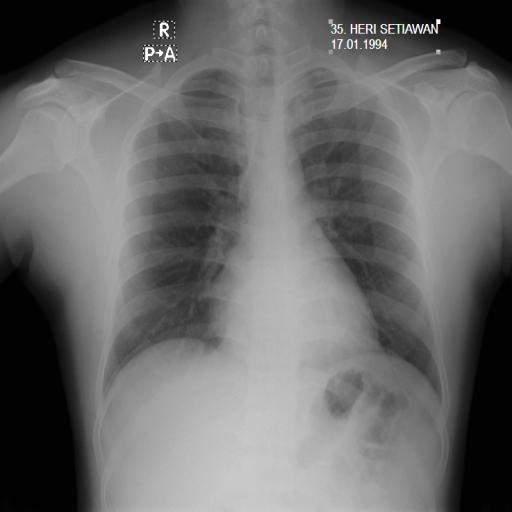normal: (91, 35, 456, 441)
